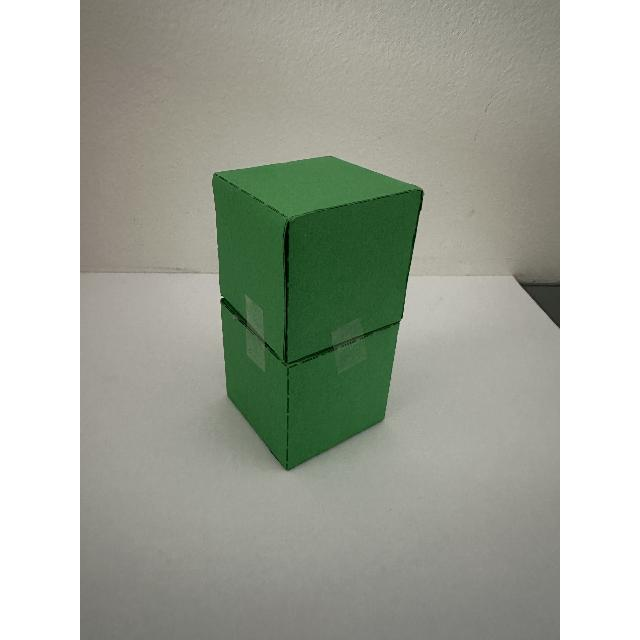green_cube: (205, 134, 431, 476)
